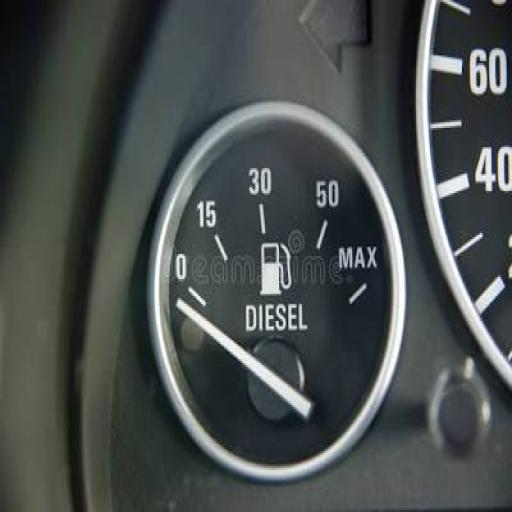empty: (174, 247, 192, 287)
fuel_icon: (256, 238, 298, 300)
full: (336, 244, 386, 282)
guage_area: (142, 85, 411, 492)
needle_center: (238, 334, 306, 422)
needle_tip: (169, 292, 198, 328)
